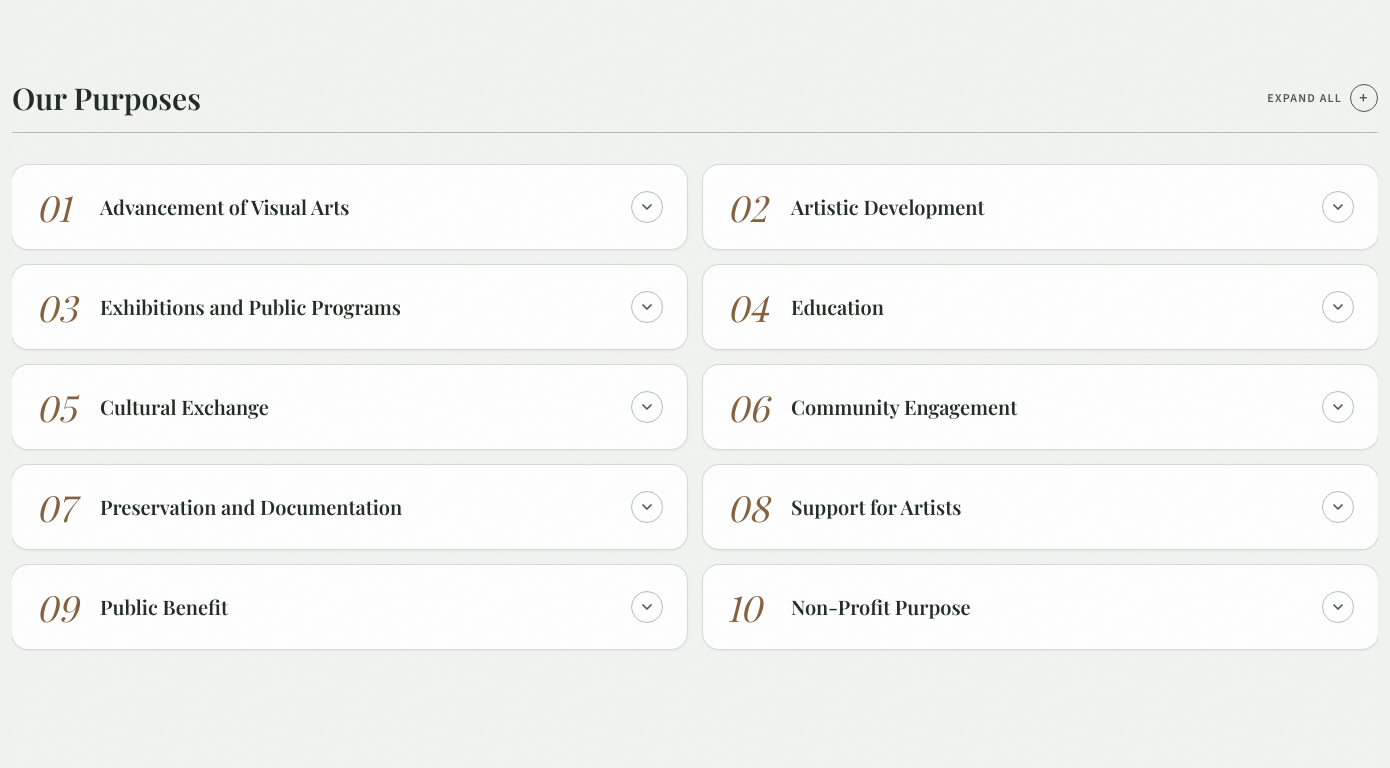
it: PurposesSection › keeps several open at once
The image size is (1390, 768).
Click the button "01 Advancement of Visual Arts" at (350, 207), box [12,165,687,249]
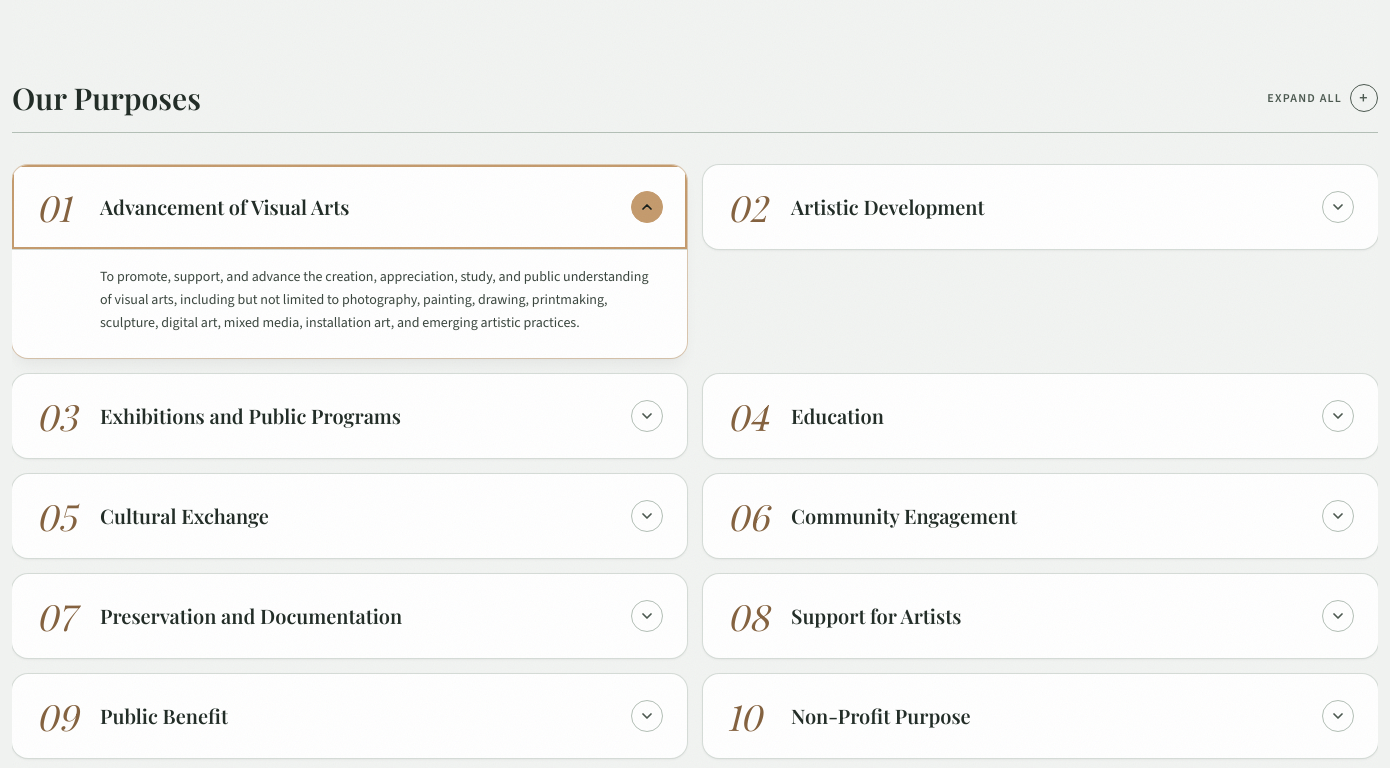
Click the button "10 Non-Profit Purpose" at (744, 716), box [703,674,1378,758]
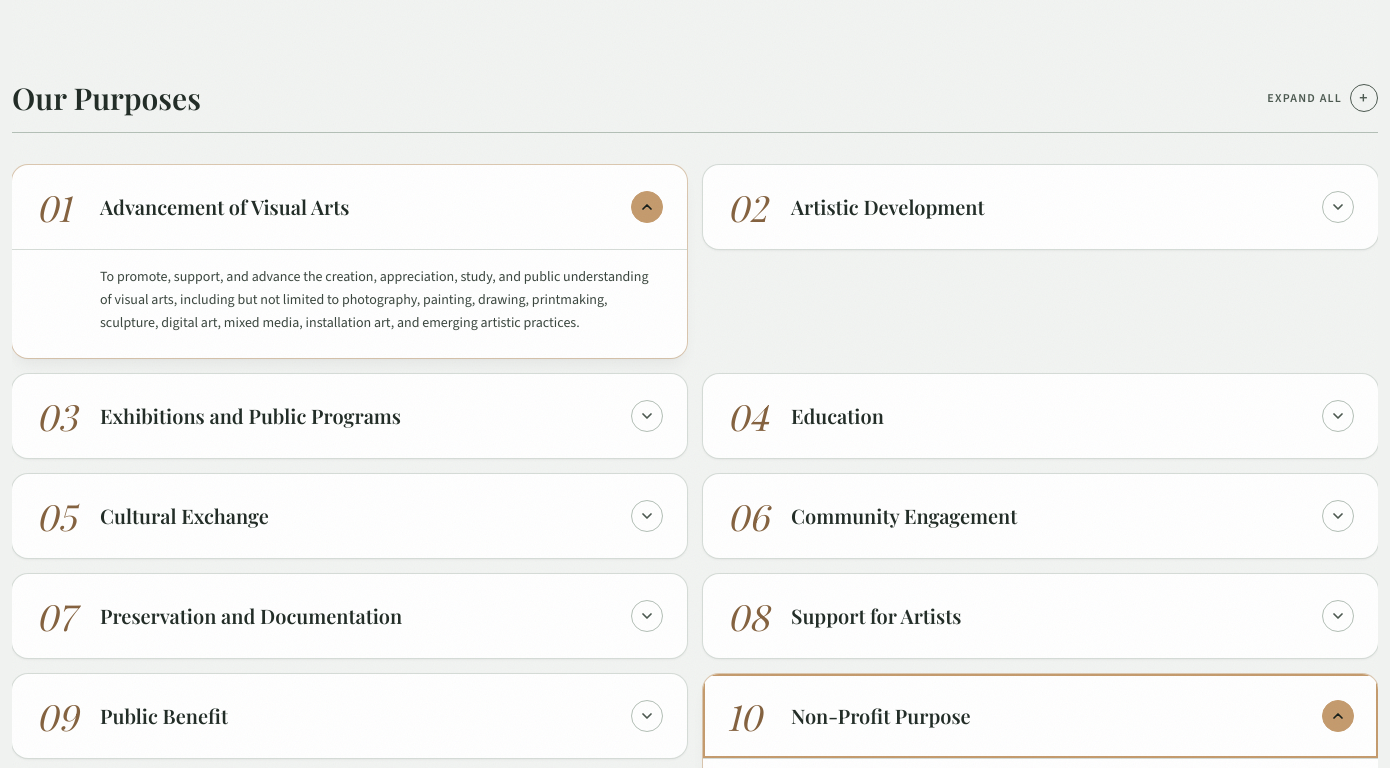
Check: the button "01 Advancement of Visual Arts" is expanded, box [12,165,687,249]
Check: the button "10 Non-Profit Purpose" is expanded, box [703,674,1378,758]
